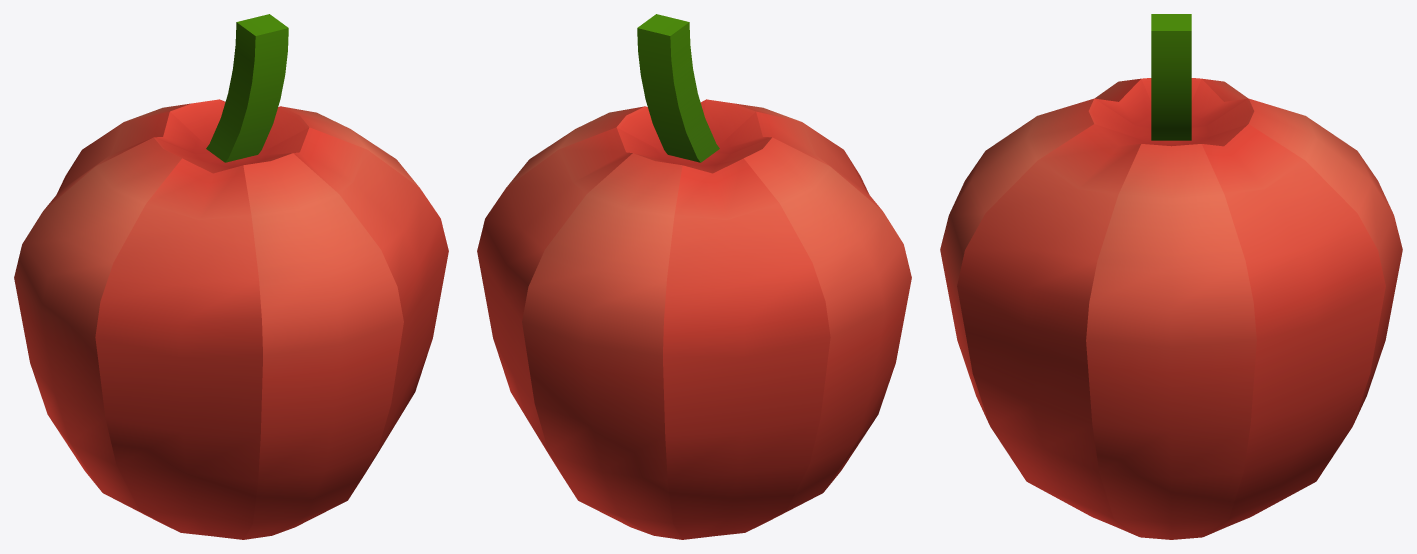
File: Frut-1.fbx
3 views of the same model, side by side, from view 1: azimuth 30°, elevation 25°; view 2: azimuth 150°, elevation 25°; view 3: azimuth 270°, elevation 25° (orthographic). The views are drawn at different scales.
Parts seen in each view (by area): view 1: Frut-1; view 2: Frut-1; view 3: Frut-1.
Part boxes in pixels (bbox=[...]): Frut-1: bbox=[14, 14, 448, 539]; Frut-1: bbox=[477, 14, 911, 539]; Frut-1: bbox=[940, 14, 1402, 539].
Size of the model in its own units: 65.58 by 77.76 by 65.58.
